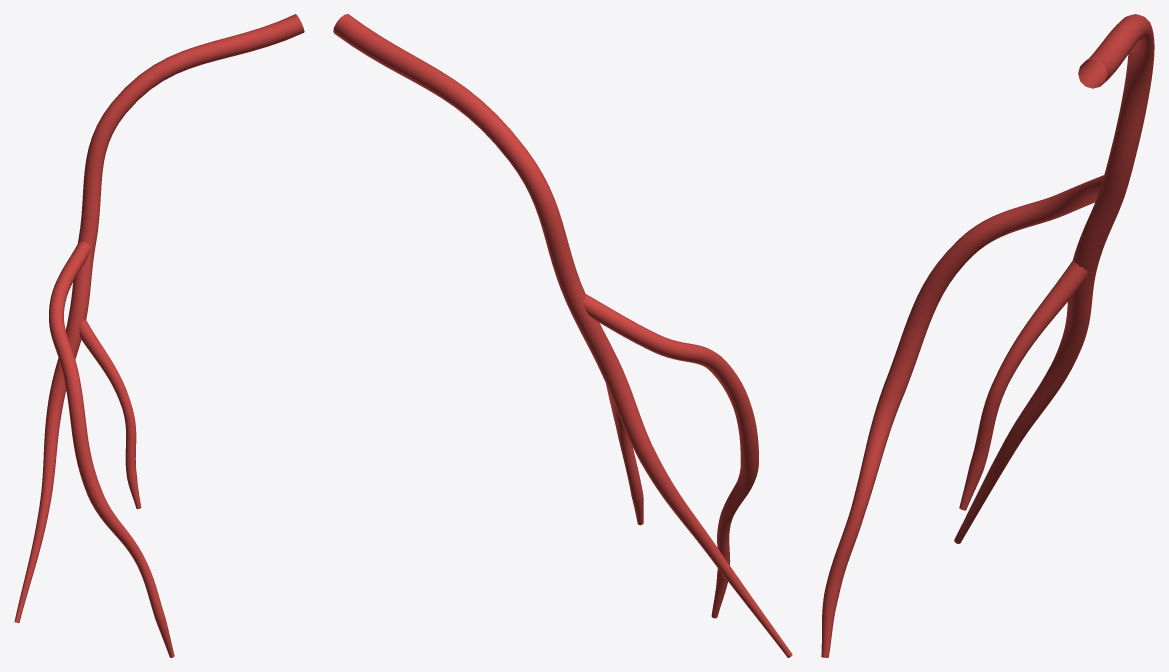
The picture shows the model from 3 angles, left to right: view 1: azimuth 30°, elevation 25°; view 2: azimuth 150°, elevation 25°; view 3: azimuth 270°, elevation 25°; orthographic projection. The views are drawn at different scales.
Parts seen in each view (by area): view 1: 右侧睫状后长动脉; view 2: 右侧睫状后长动脉; view 3: 右侧睫状后长动脉.
Boxes of the visible parts, <box> form: 右侧睫状后长动脉: <box>14,14,304,657</box>; 右侧睫状后长动脉: <box>333,14,792,657</box>; 右侧睫状后长动脉: <box>821,14,1154,657</box>.
Size of the model in its own units: 0.0221 by 0.0329 by 0.0132.
